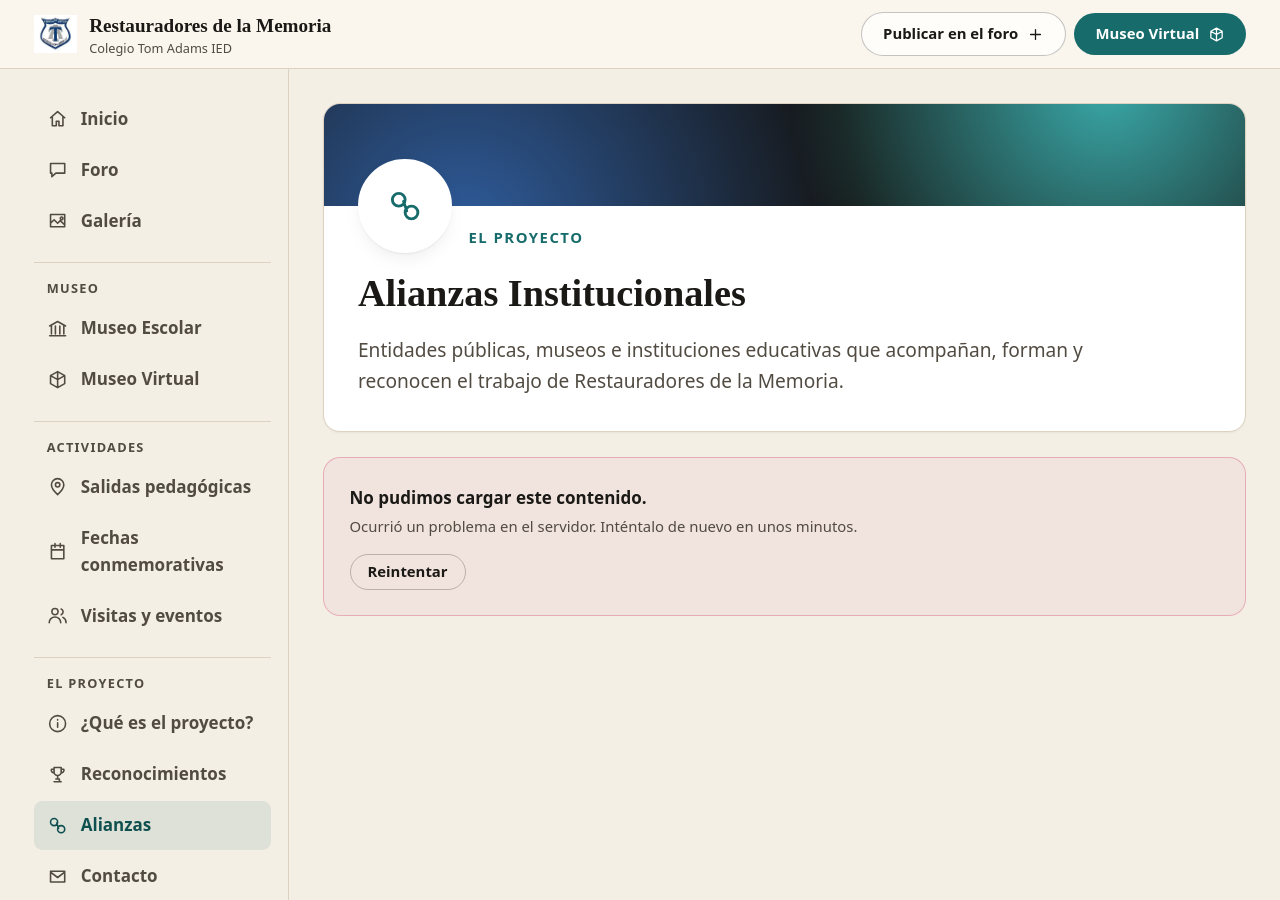
Test: Reconocimientos y alianzas › ofrece reintentar cuando la API falla
Expected: the message shows "No pudimos cargar", [350,486,647,509]
Step 1. Click the button "Reintentar" → (408,572), box [350,554,466,590]
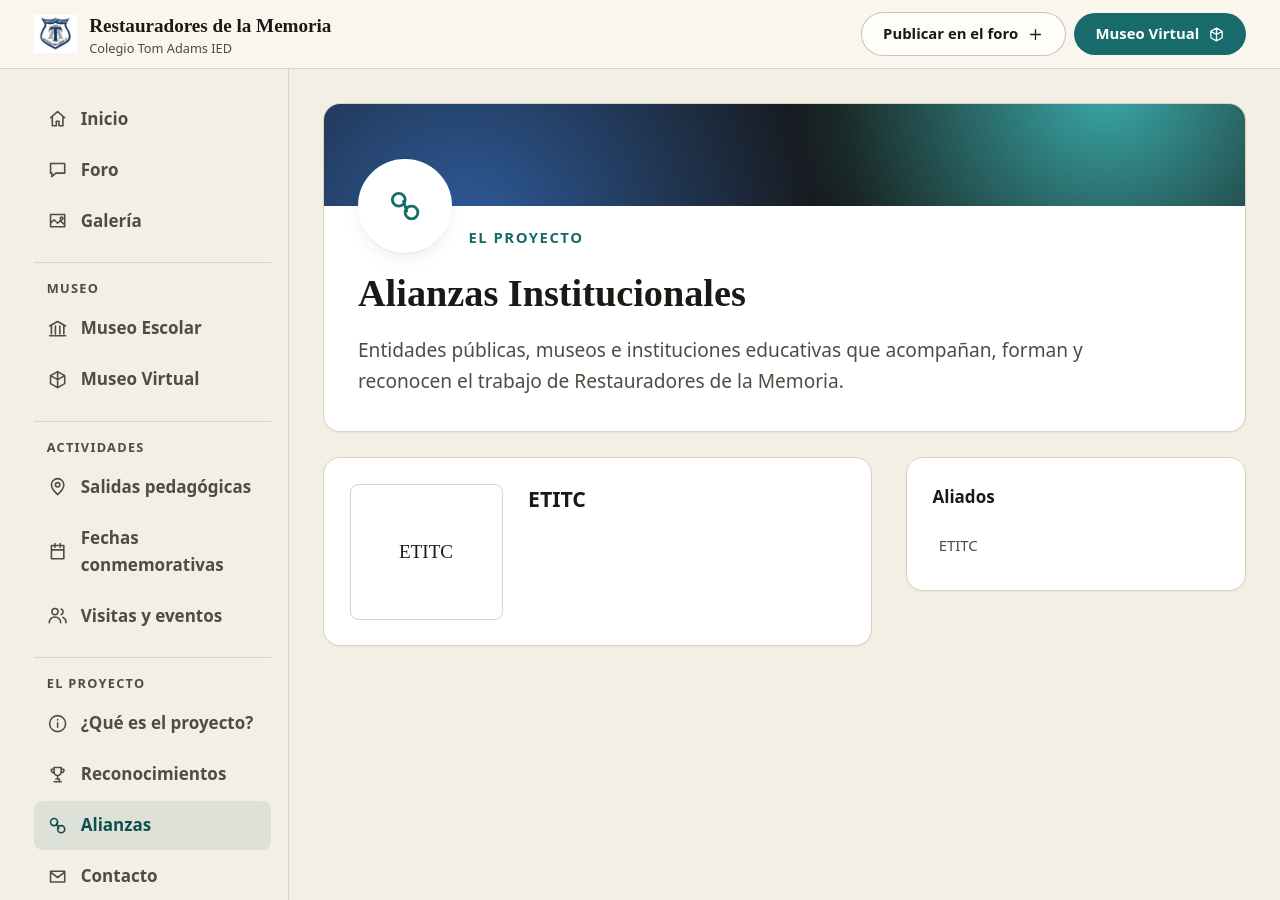
Now the heading "ETITC" is shown, box [528,484,586,513]
